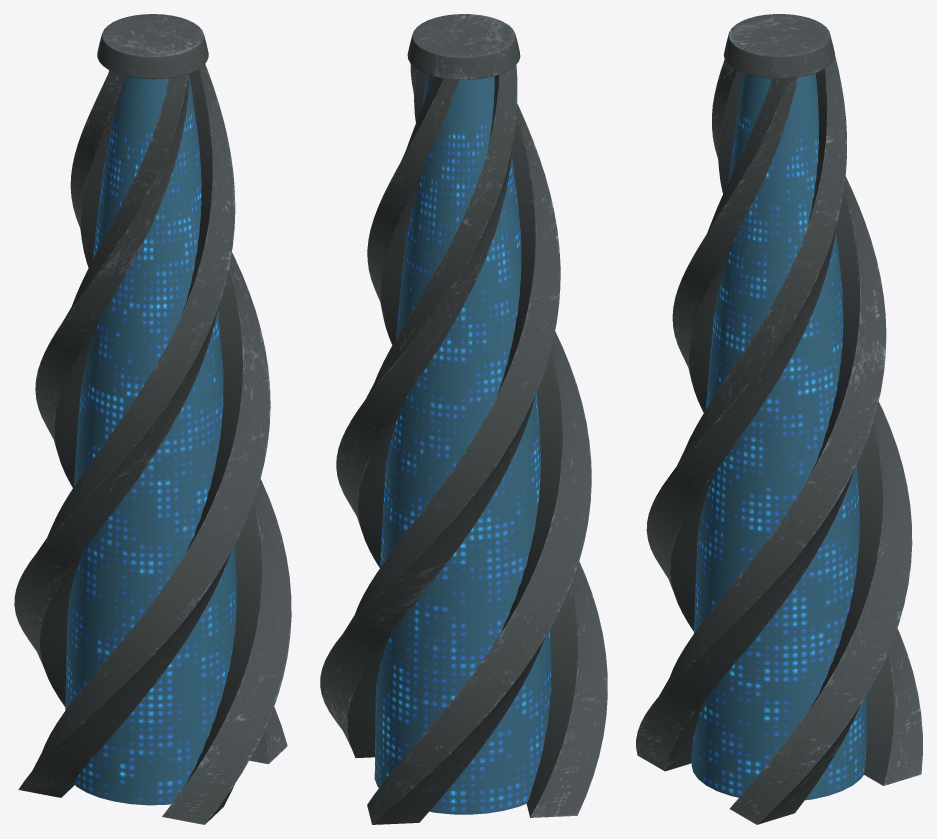
The model's file is sci-fi_building_9.glb.
3 views of the same model, side by side, from view 1: azimuth 30°, elevation 25°; view 2: azimuth 150°, elevation 25°; view 3: azimuth 270°, elevation 25° (orthographic).
Parts seen in each view (by area): view 1: Sci_fi_building; view 2: Sci_fi_building; view 3: Sci_fi_building.
Part boxes in pixels (box(x1,y1,x2,y2)): Sci_fi_building: box(14, 14, 291, 824); Sci_fi_building: box(320, 14, 607, 824); Sci_fi_building: box(636, 14, 922, 824).
Size of the model in its own units: 73.32 by 206 by 73.32.
Materials: 1 (1 with a texture image).
